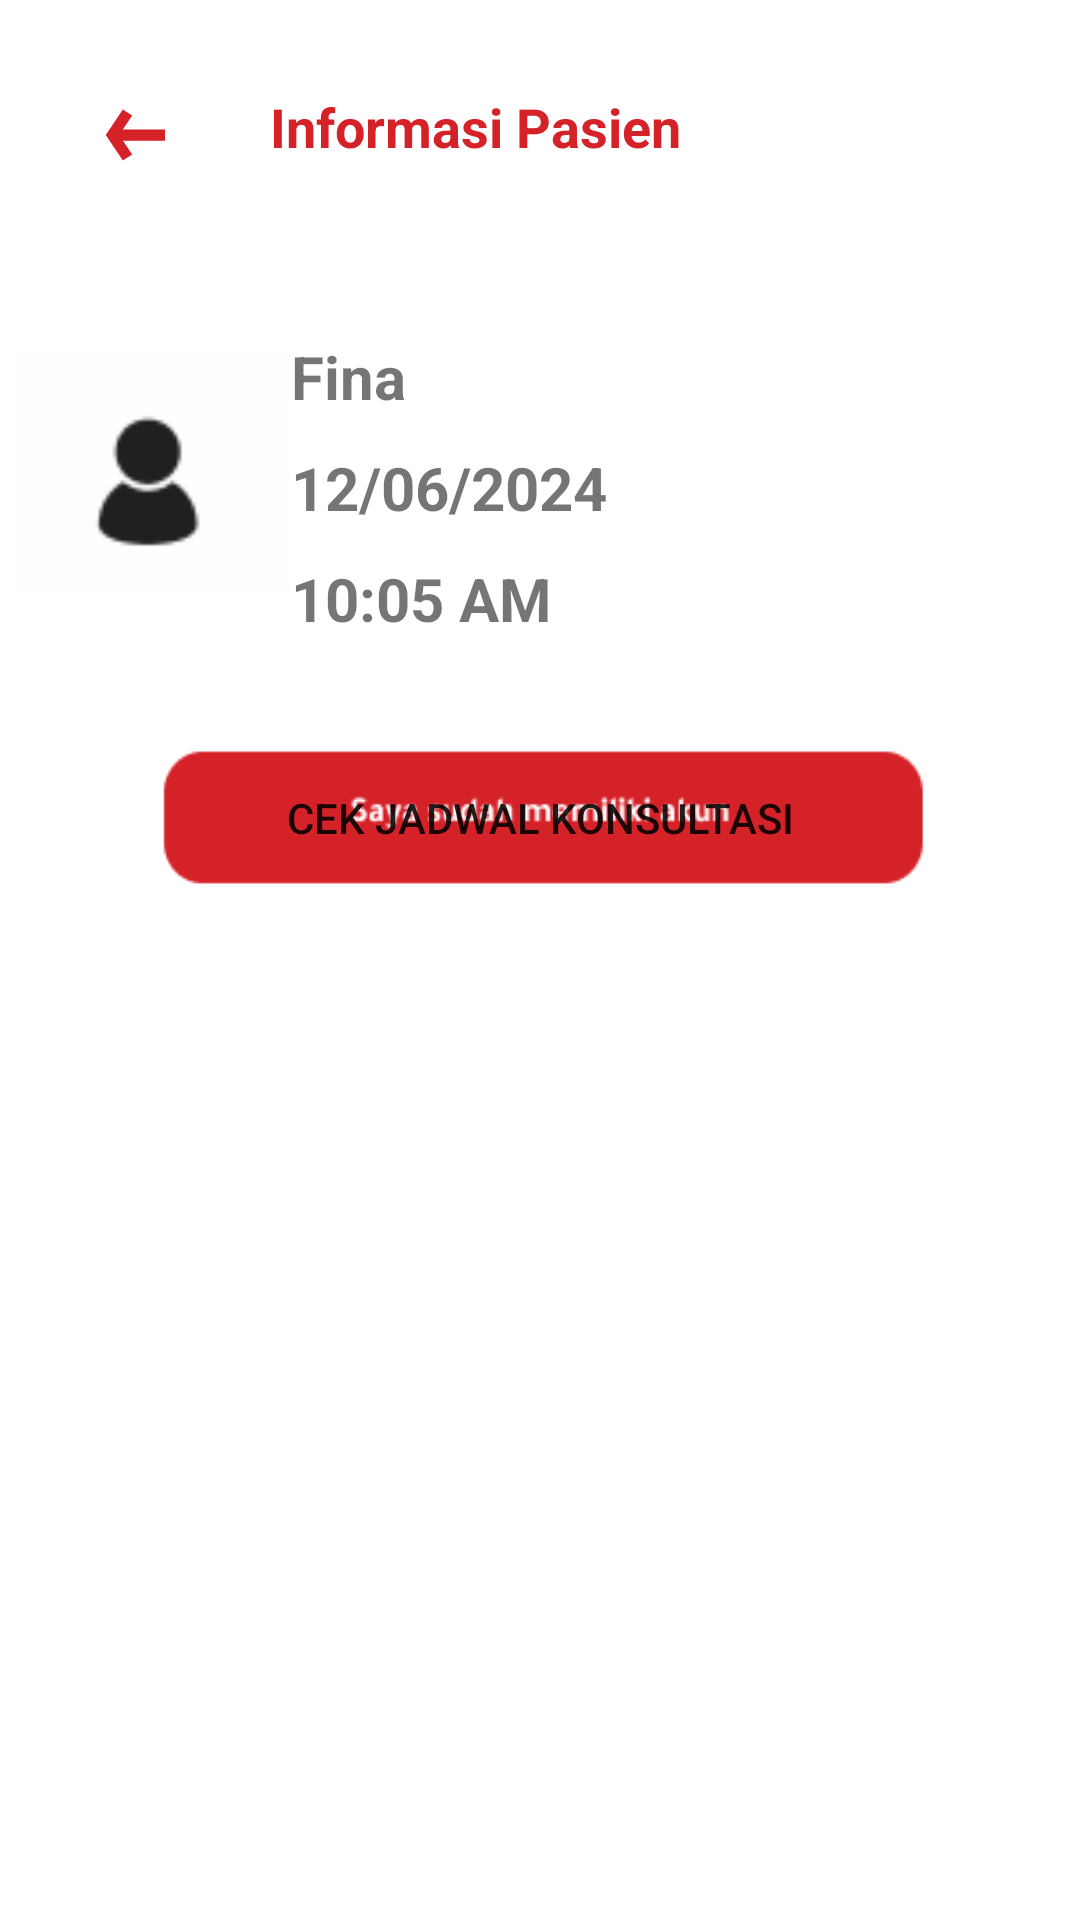

Icons on this 1080px×1920px Android screen, each with its box as (x1, y1, x2, y2):
back: (106, 109, 165, 161)
profile: (97, 417, 200, 546)
